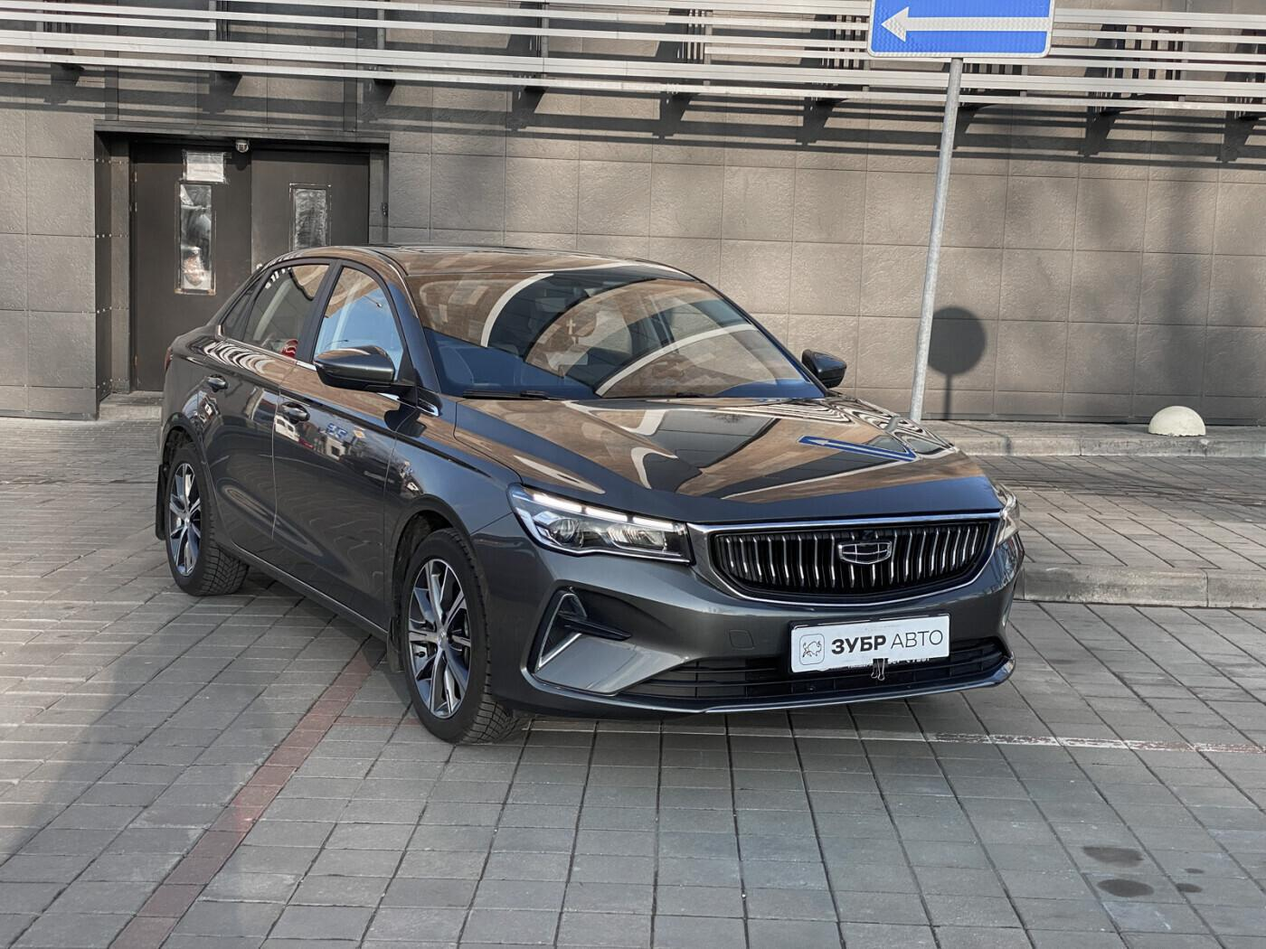Emgrand_2021: (149, 240, 1033, 758)
